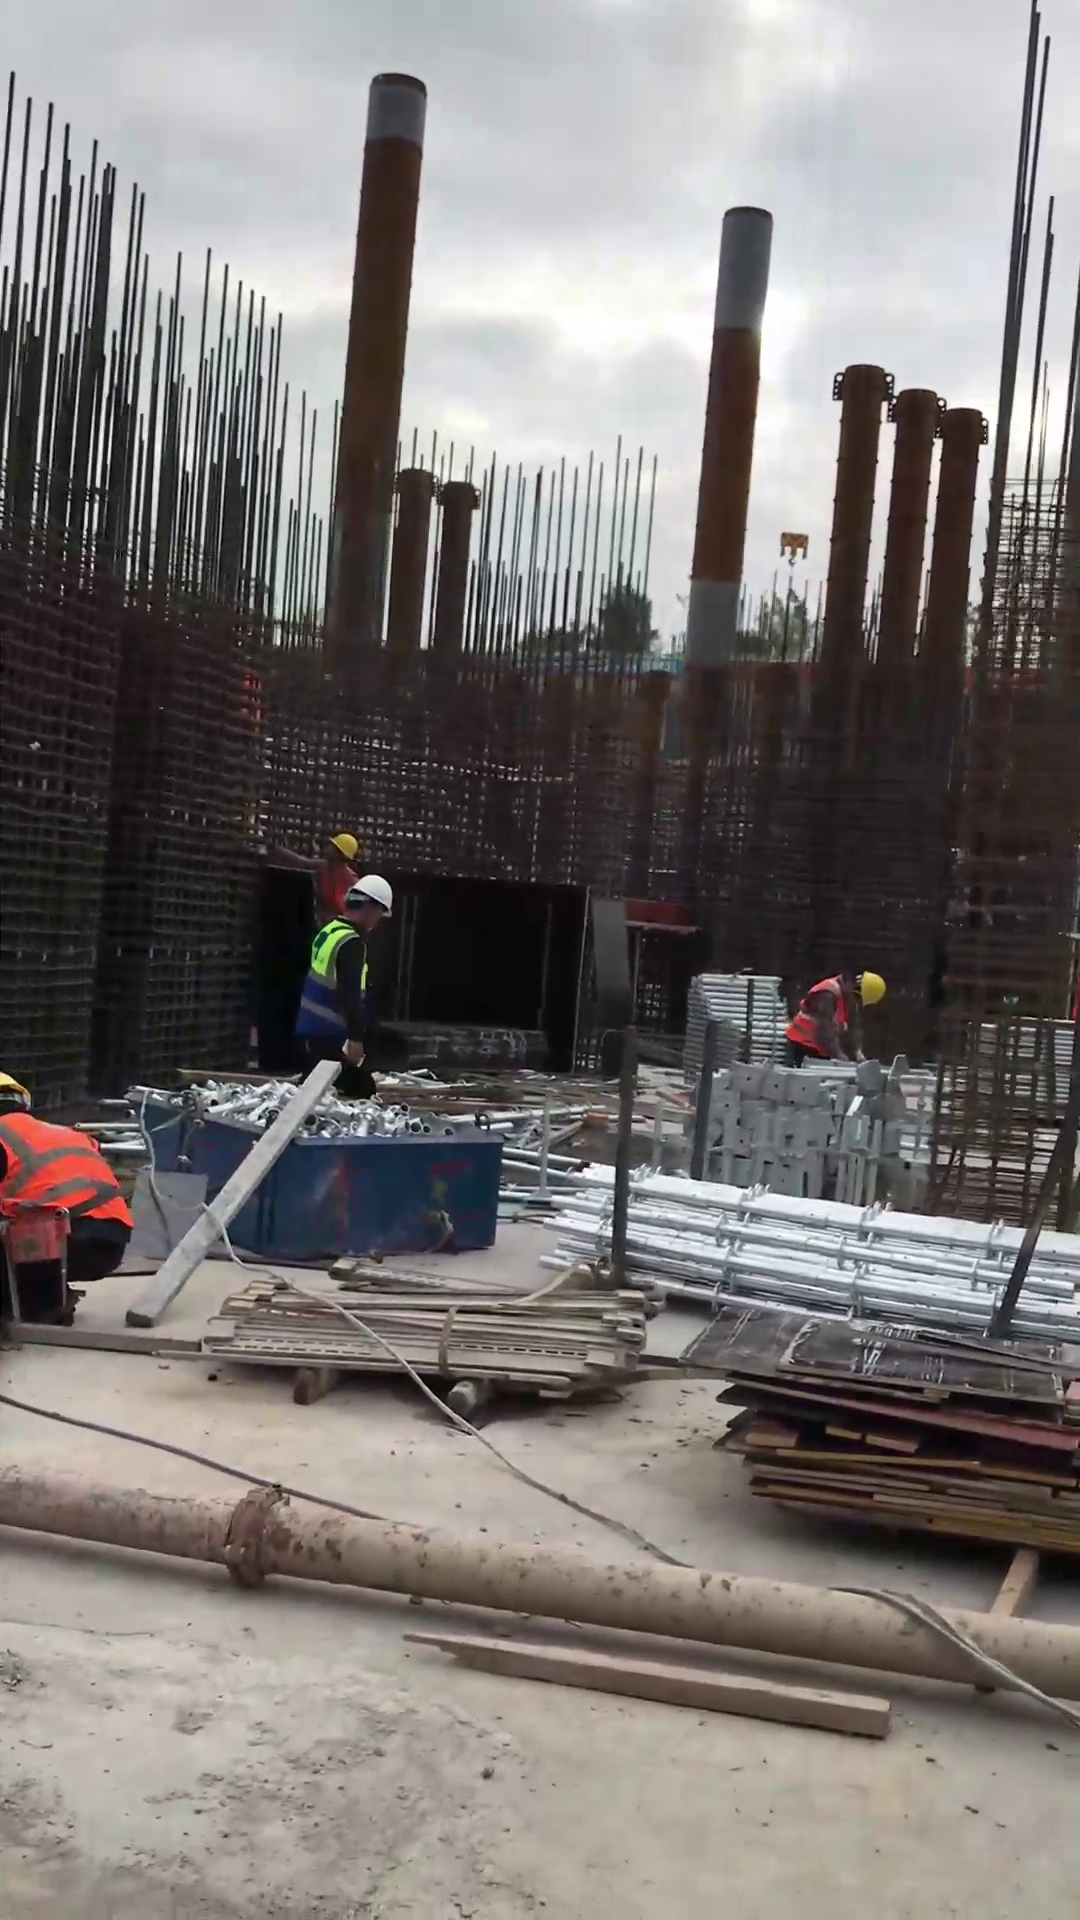board: (659, 1287, 1080, 1562)
helmet: (343, 865, 396, 925), (1, 1064, 44, 1113), (317, 824, 362, 868), (851, 968, 889, 1015)
hook: (773, 522, 816, 575)
hopper: (109, 1082, 514, 1267)
person: (1, 1048, 143, 1335), (283, 868, 411, 1101), (767, 957, 899, 1088), (304, 818, 374, 944)
scaffold: (685, 967, 787, 1094)
vest: (1, 1111, 137, 1237), (289, 915, 386, 1057), (778, 969, 857, 1069), (305, 857, 362, 922)
